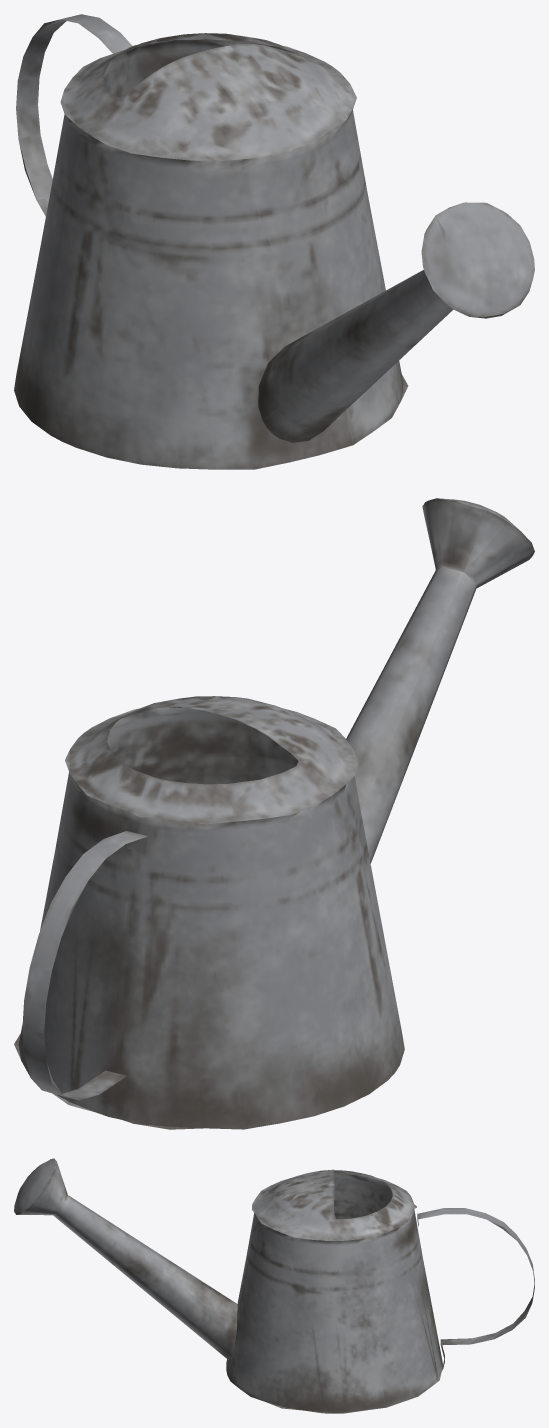
File: watering_can.glb
The picture shows the model from 3 angles, top to bottom: view 1: azimuth 30°, elevation 25°; view 2: azimuth 150°, elevation 25°; view 3: azimuth 270°, elevation 25°; orthographic projection. The views are drawn at different scales.
Visible parts, largest first — view 1: mesh; view 2: mesh; view 3: mesh.
Boxes of the visible parts, left/top/right/bottom form: mesh: left=14, top=14, right=534, bottom=469; mesh: left=14, top=498, right=534, bottom=1129; mesh: left=14, top=1158, right=534, bottom=1413.
Bounding box in the file's own units: 0.1887 × 0.1968 × 0.4534.
1 material, 1 textured.
